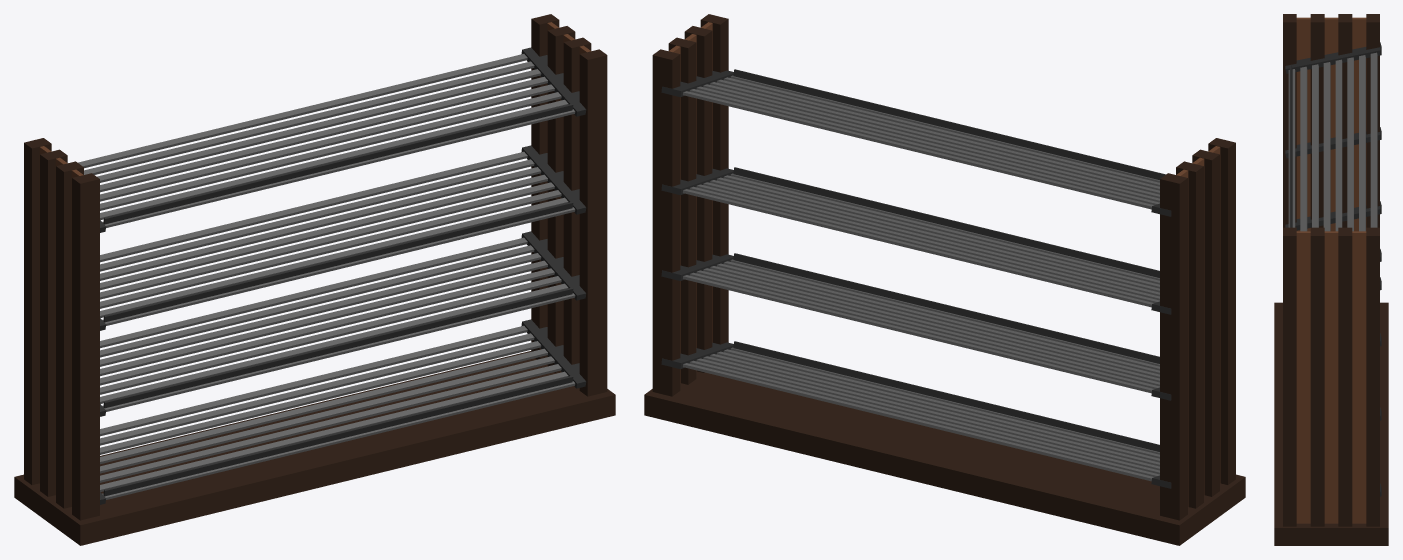
Rendered from Angled Rack.fbx.
3 views of the same model, side by side, from view 1: azimuth 30°, elevation 25°; view 2: azimuth 150°, elevation 25°; view 3: azimuth 270°, elevation 25° (orthographic). The views are drawn at different scales.
Parts seen in each view (by area): view 1: Angled Rack; view 2: Angled Rack; view 3: Angled Rack.
Part boxes in pixels (bbox=[...]): Angled Rack: bbox=[14, 14, 615, 545]; Angled Rack: bbox=[644, 14, 1245, 545]; Angled Rack: bbox=[1274, 14, 1388, 545].
Bounding box in the file's own units: 199 × 127 × 42.62.
Materials: 1 (1 with a texture image).
